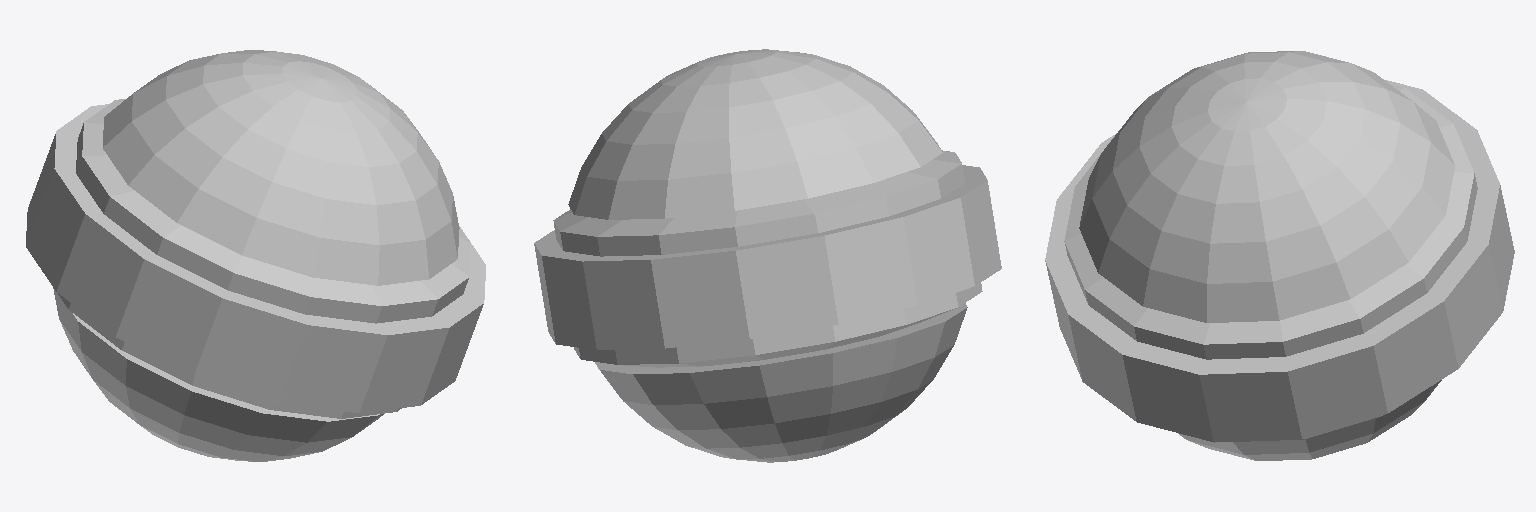
The model's file is RedRoboBottom.obj.
The picture shows the model from 3 angles: view 1: azimuth 30°, elevation 25°; view 2: azimuth 150°, elevation 25°; view 3: azimuth 270°, elevation 25°; orthographic projection.
Parts seen in each view (by area): view 1: polySurface3; view 2: polySurface3; view 3: polySurface3.
Boxes of the visible parts, x1=… form: polySurface3: x1=26, y1=50, x2=485, y2=461; polySurface3: x1=534, y1=49, x2=1001, y2=462; polySurface3: x1=1045, y1=51, x2=1514, y2=460.
Bounding box in the file's own units: 2.24 × 1.96 × 2.24.